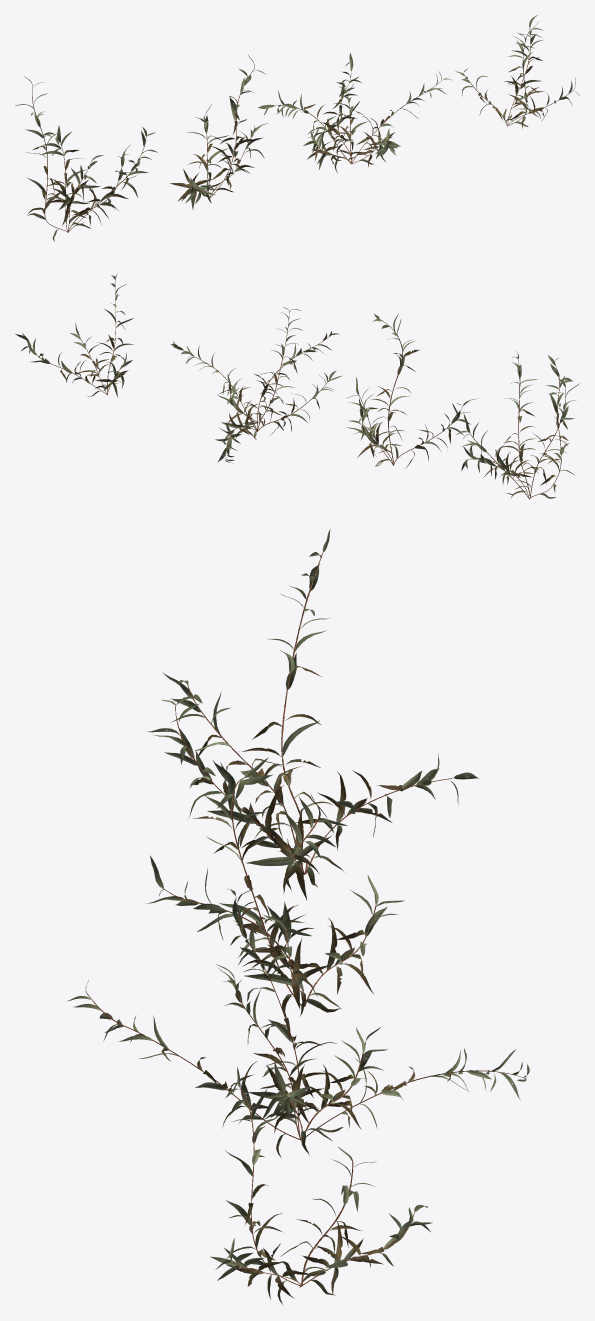
Rendered from polyhaven-shrub-02.glb.
3 renders of one model, top to bottom at view 1: azimuth 30°, elevation 25°; view 2: azimuth 150°, elevation 25°; view 3: azimuth 270°, elevation 25°, orthographic. The views are drawn at different scales.
Visible parts, largest first — view 1: shrub_02_c_0, shrub_02_a_0, shrub_02_b_0, shrub_02_d_0; view 2: shrub_02_c_0, shrub_02_a_0, shrub_02_b_0, shrub_02_d_0; view 3: shrub_02_a_0, shrub_02_c_0, shrub_02_b_0, shrub_02_d_0.
Boxes of the visible parts, box(x1,y1,x2,y2) form: shrub_02_c_0: box(258, 53, 452, 172); shrub_02_a_0: box(15, 76, 157, 241); shrub_02_b_0: box(170, 55, 268, 209); shrub_02_d_0: box(455, 15, 579, 128); shrub_02_c_0: box(171, 307, 341, 463); shrub_02_a_0: box(456, 351, 579, 499); shrub_02_b_0: box(346, 313, 477, 468); shrub_02_d_0: box(15, 274, 134, 397); shrub_02_a_0: box(147, 529, 478, 900); shrub_02_c_0: box(67, 888, 529, 1158); shrub_02_b_0: box(145, 757, 404, 1018); shrub_02_d_0: box(210, 1067, 432, 1304).
Bounding box in the file's own units: 6.05 × 1.7 × 2.29.
Materials: 1 (1 with a texture image).
